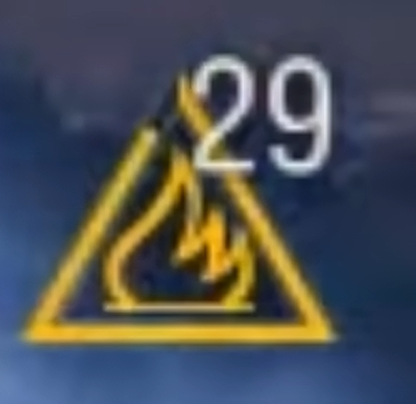1fire: (16, 177, 346, 345)
